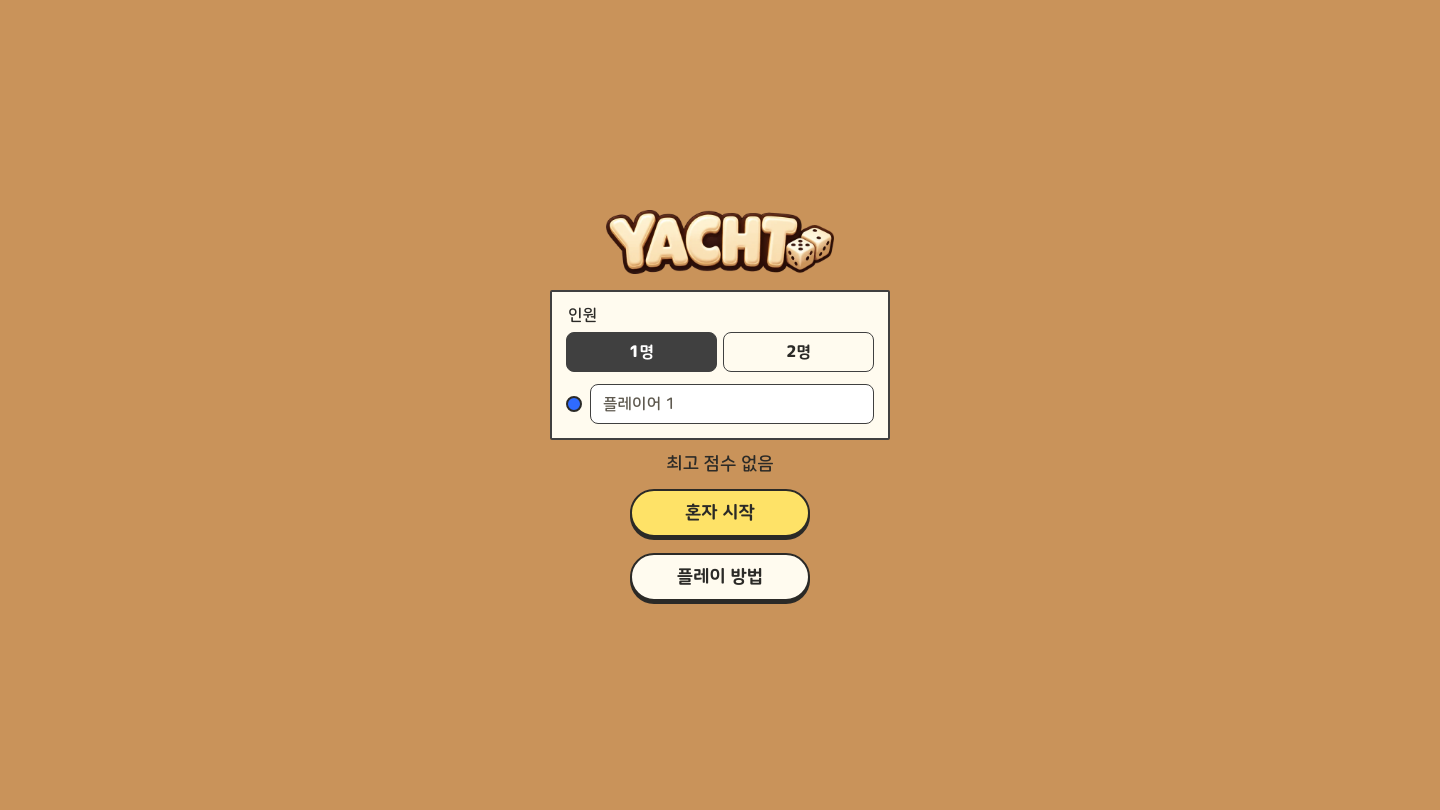
it: 시작 화면에서 여는 플레이 방법 › Esc 로 닫으면 포커스가 연 버튼으로 돌아간다
Click the button "플레이 방법": (720, 576) [630,552,810,600]
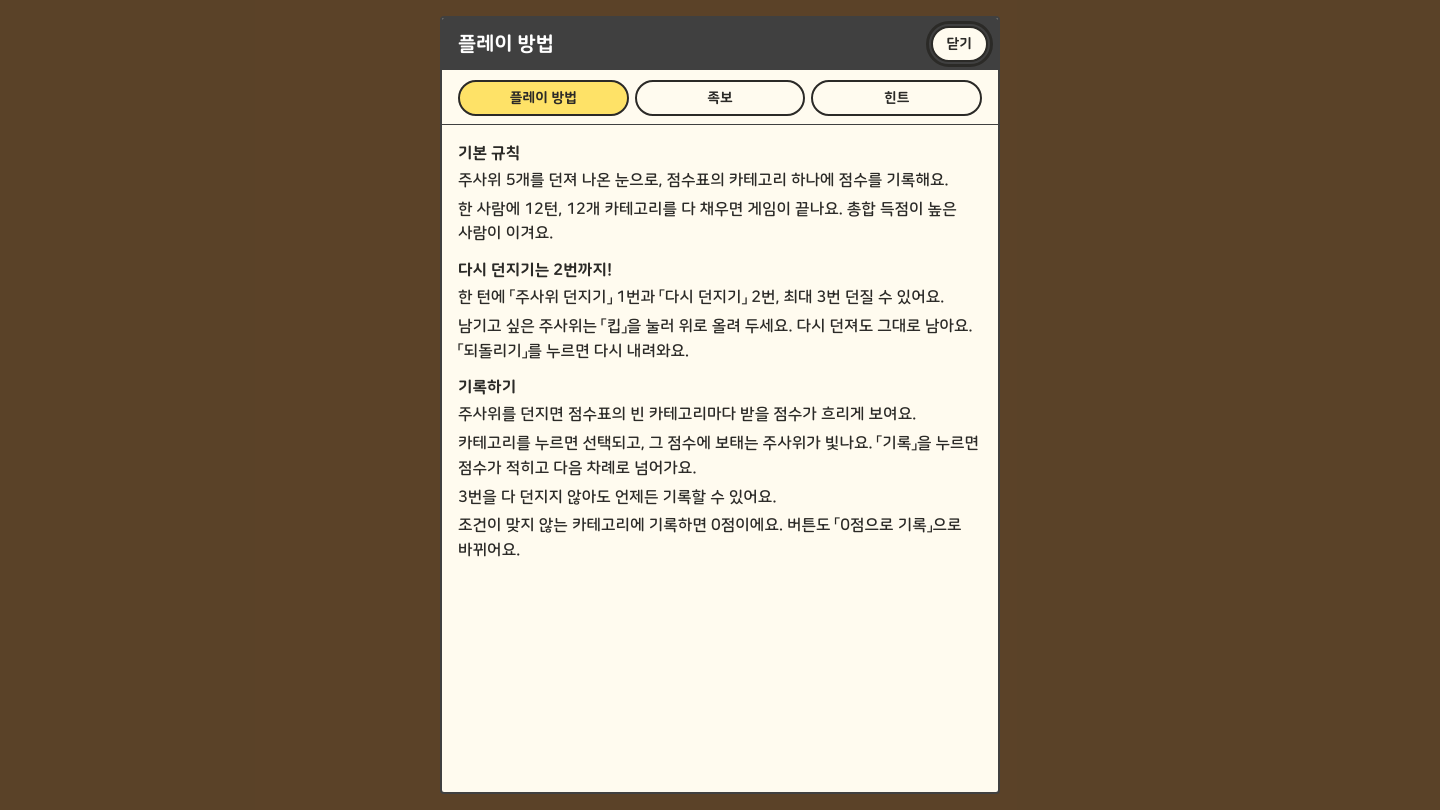
Expected: the button "닫기" is shown, [930,26,988,62]
Press Escape
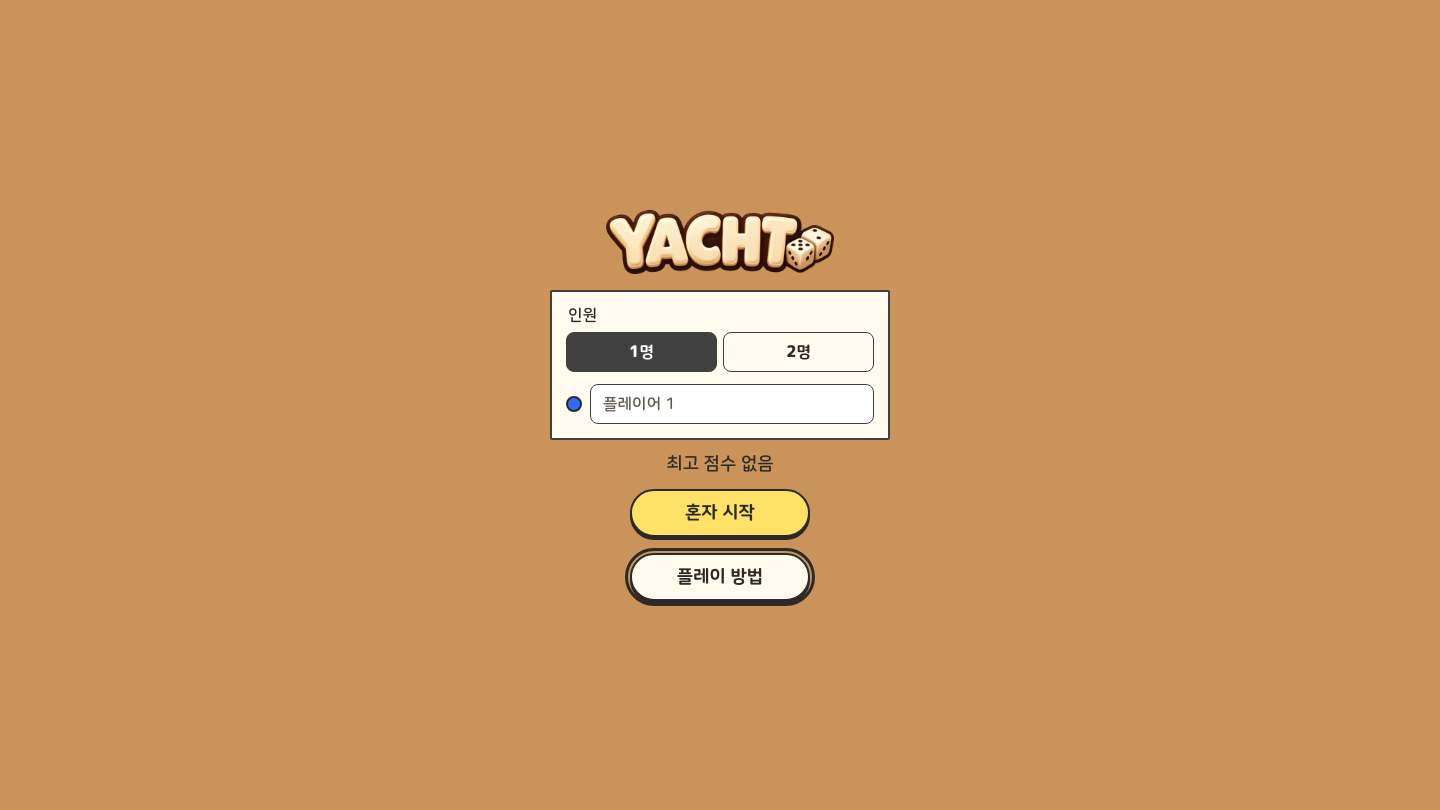
Expected: the dialog is gone
